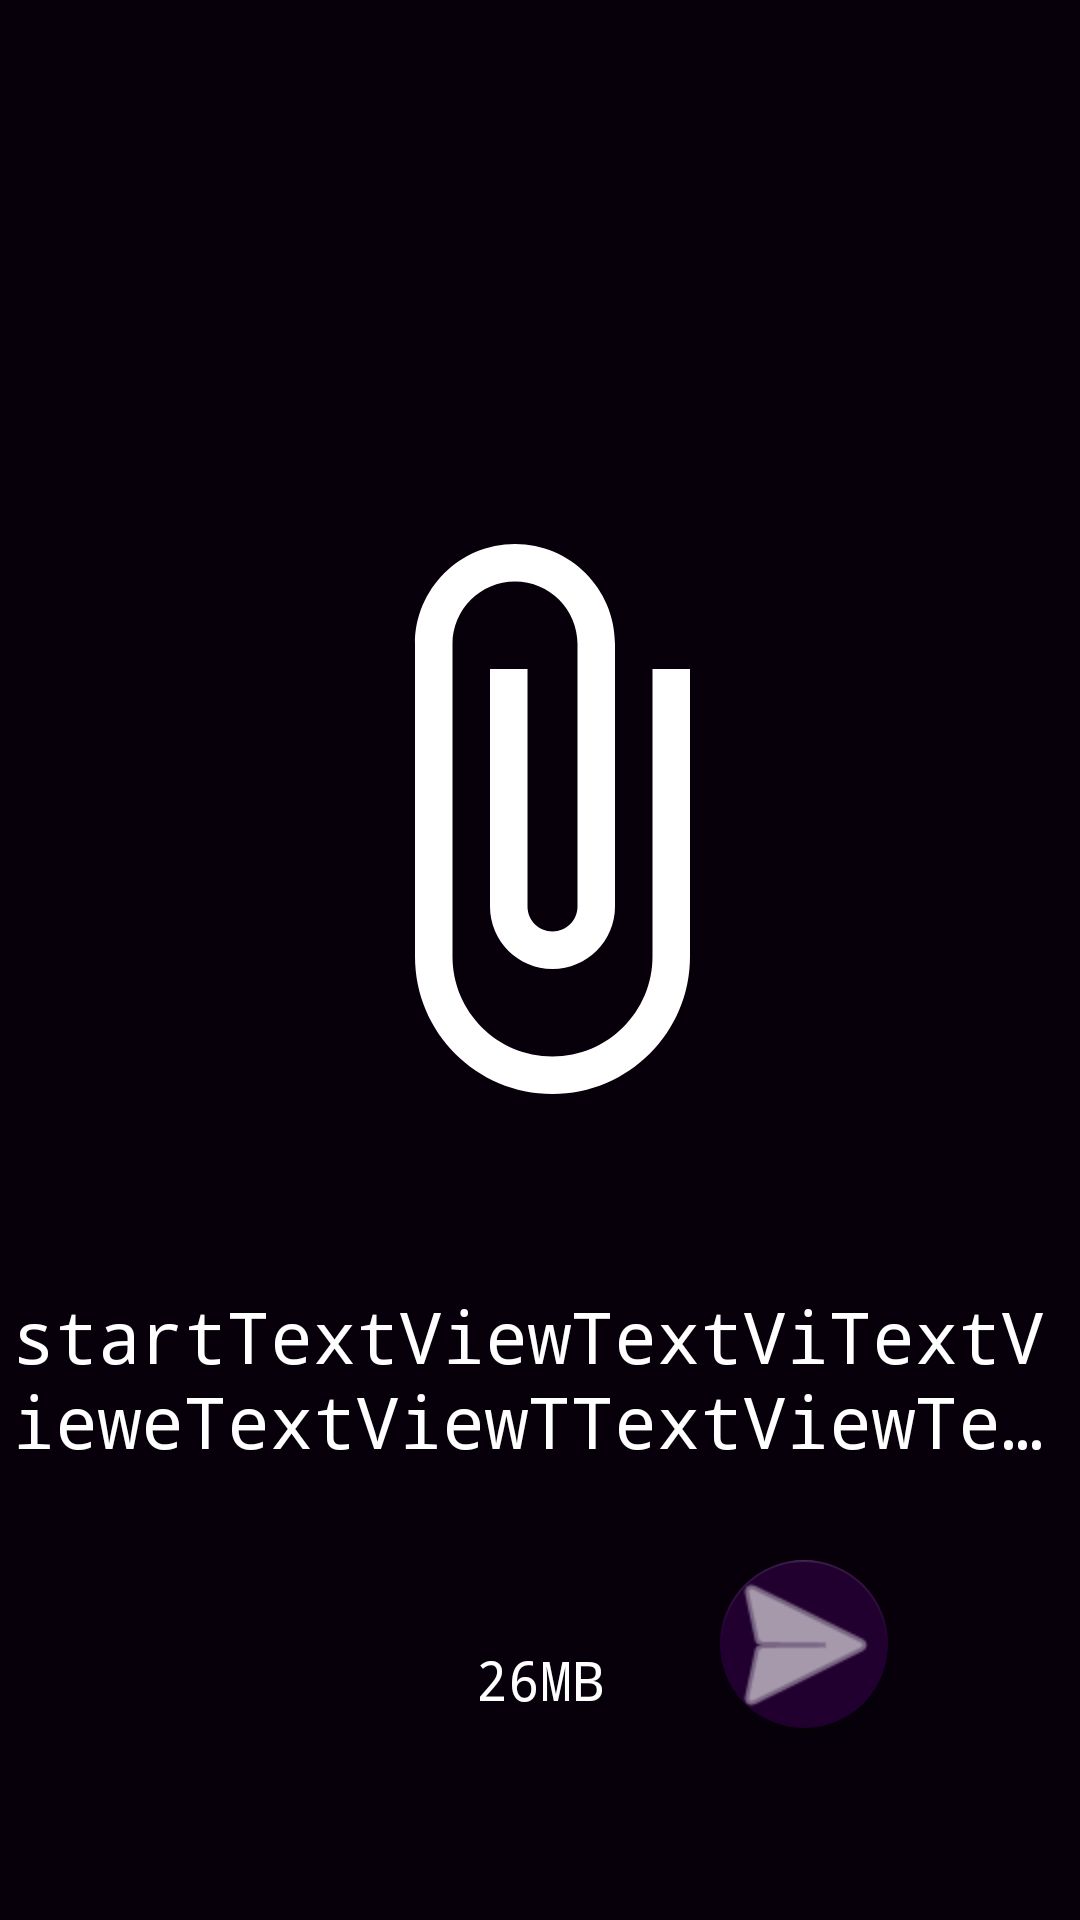

Locate icon controls on the screen. Image size 1080px x 1920px, boxes as bbox=(x1, y1, x2, y2).
SEND: bbox=(720, 1560, 888, 1728)
